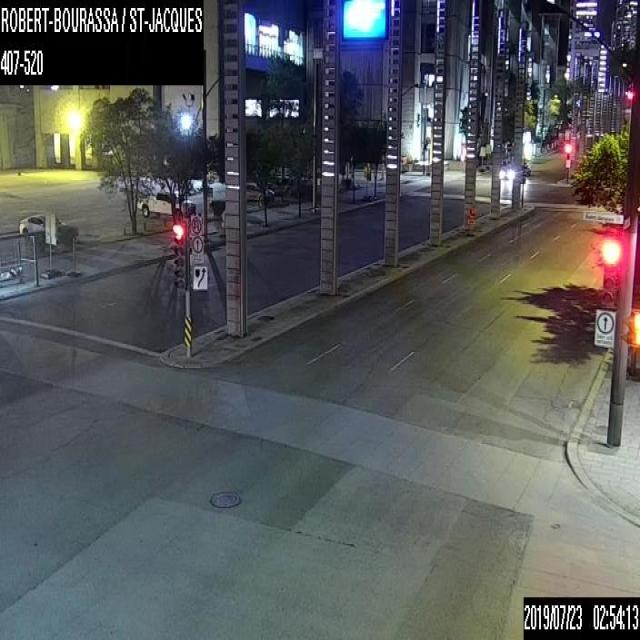construction: (466, 204, 476, 236)
vehicle: (134, 192, 194, 221), (17, 214, 70, 242), (246, 179, 273, 202), (500, 163, 513, 180), (521, 162, 530, 176)
